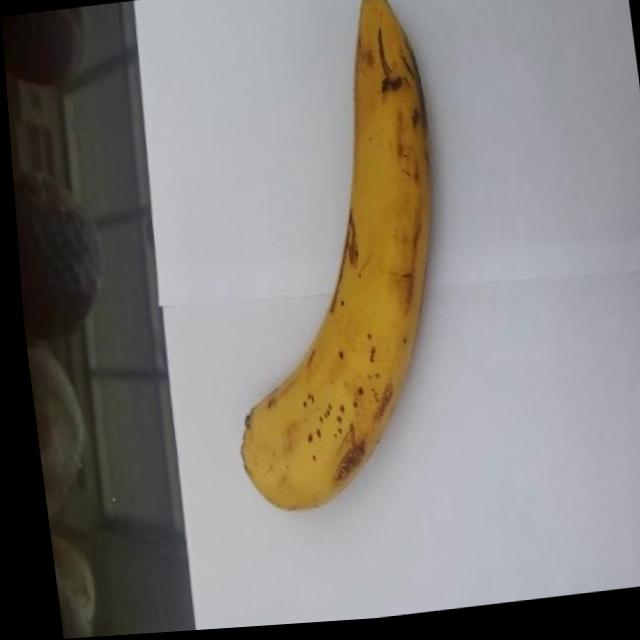Banana: (183, 0, 469, 522)
